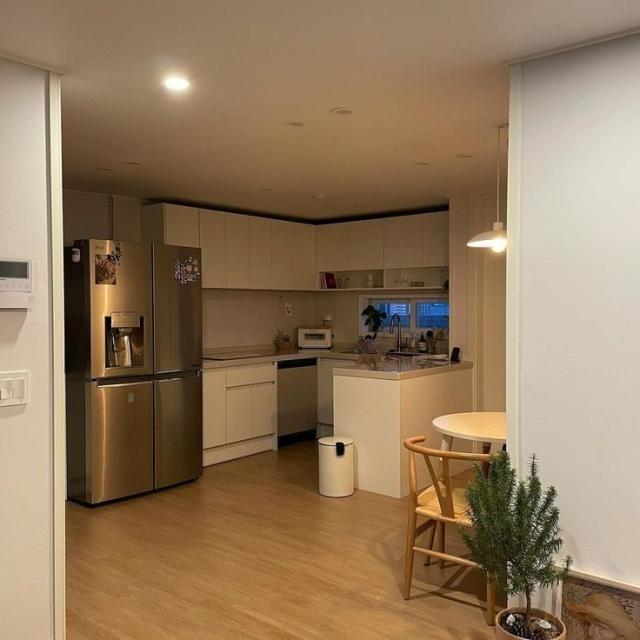obstacle: (64, 237, 203, 507), (402, 434, 505, 626)
